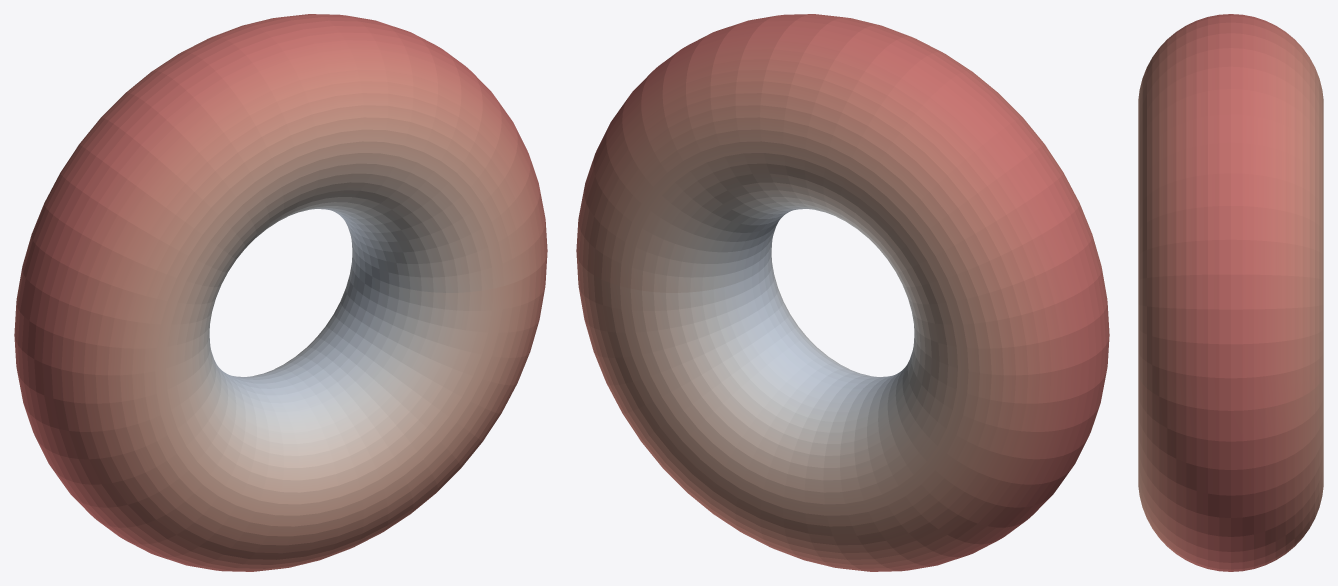
The picture shows the model from 3 angles, left to right: view 1: azimuth 30°, elevation 25°; view 2: azimuth 150°, elevation 25°; view 3: azimuth 270°, elevation 25°; orthographic projection. The views are drawn at different scales.
Visible parts, largest first — view 1: world; view 2: world; view 3: world.
Boxes of the visible parts, left/top/right/bottom form: world: left=14, top=14, right=547, bottom=571; world: left=576, top=14, right=1109, bottom=571; world: left=1138, top=14, right=1323, bottom=571.
Bounding box in the file's own units: 26 × 25.95 × 8.65.
